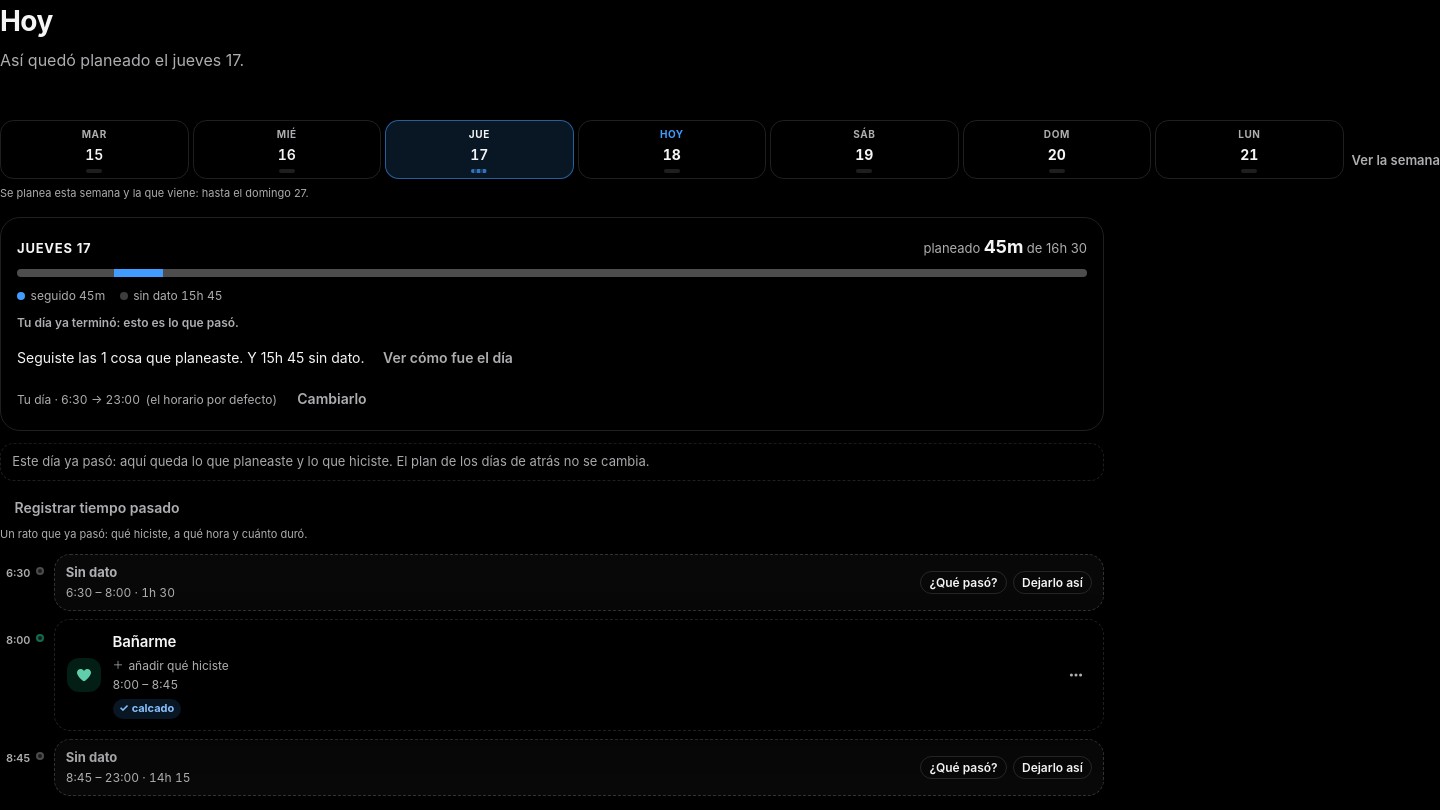
Test: VidaHoyPage — pendiente, las tres salidas, sin dato y la frase de cierre › criterios 41 y 46 — también en un día pasado, donde no se planea
Click the button named "Más opciones de Bañarme" at x=1076, y=675, box [1062,661,1090,689]
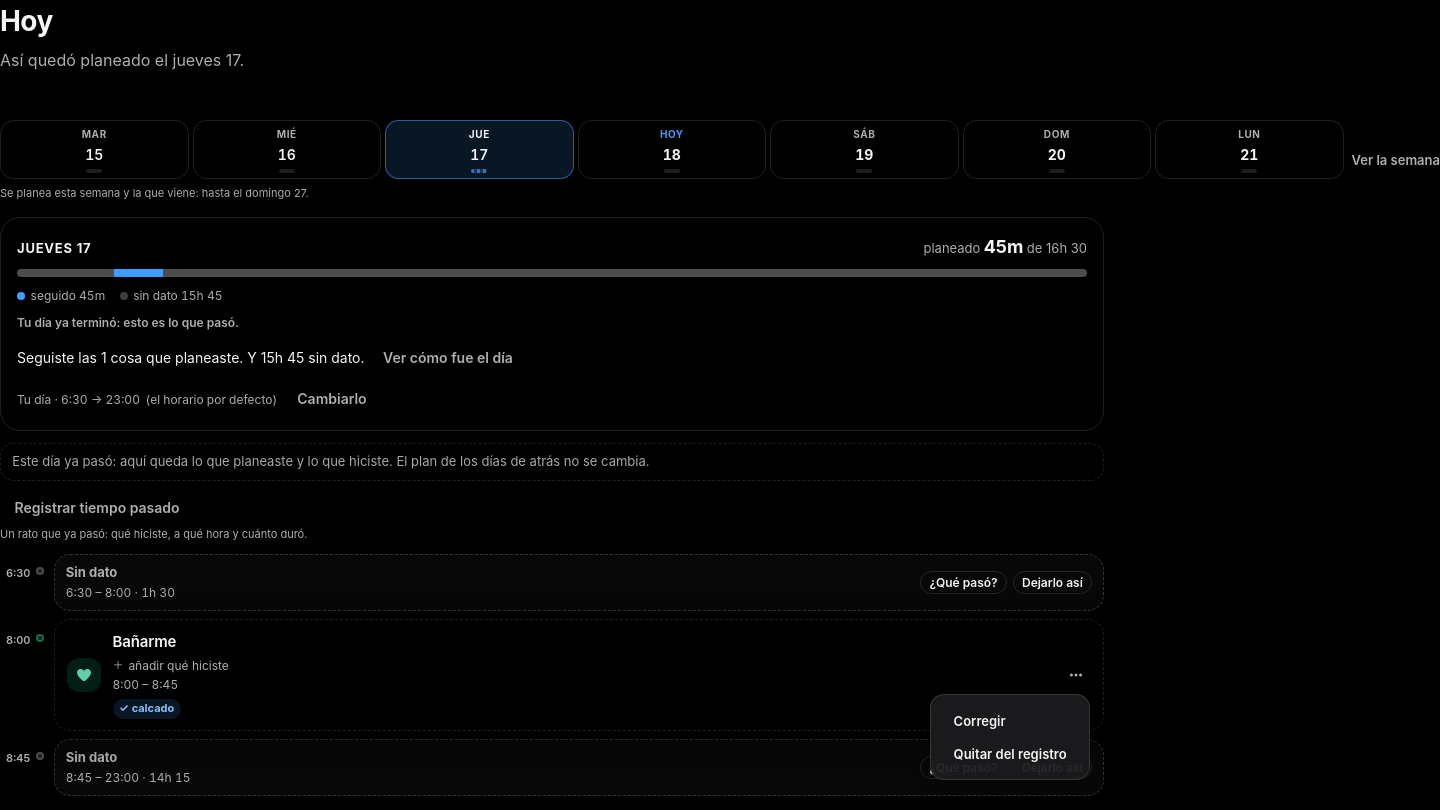
Expected: the button "Corregir" is shown, [945,706,1076,736]
Expected: the button "Quitar del registro" is shown, [945,738,1076,769]
